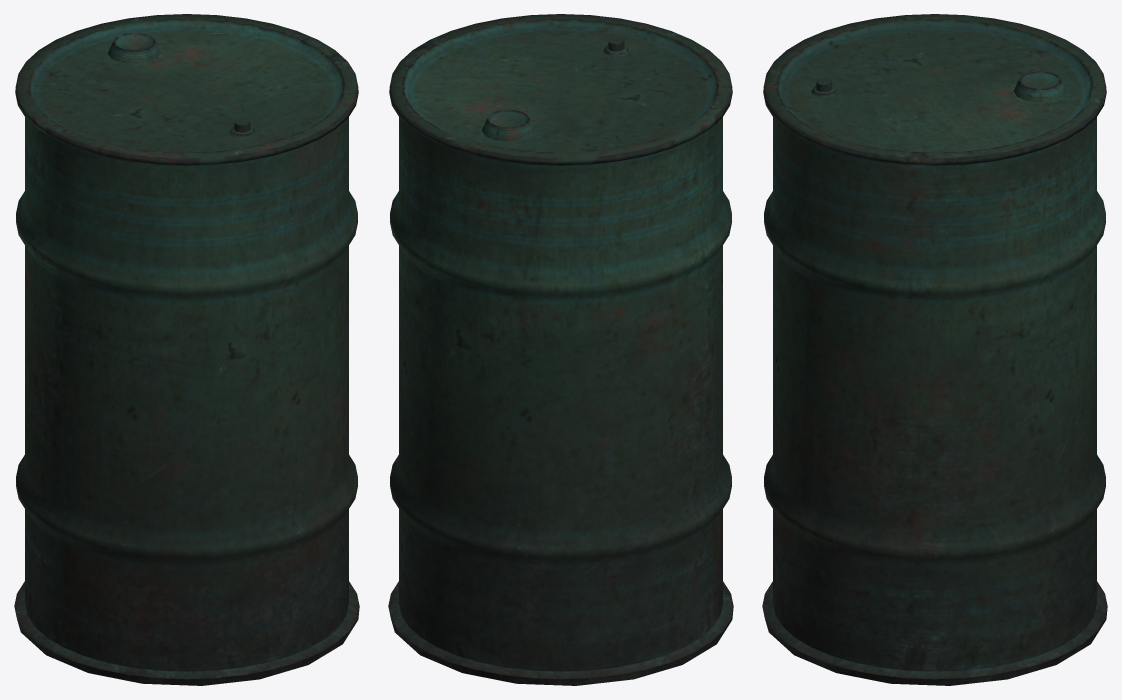
The model's file is Oil_Drum.fbx.
The picture shows the model from 3 angles, left to right: view 1: azimuth 30°, elevation 25°; view 2: azimuth 150°, elevation 25°; view 3: azimuth 270°, elevation 25°; orthographic projection.
Parts seen in each view (by area): view 1: Oil_Drum_LOD0; view 2: Oil_Drum_LOD0; view 3: Oil_Drum_LOD0.
Boxes of the visible parts, <box> form: Oil_Drum_LOD0: <box>14,14,359,685</box>; Oil_Drum_LOD0: <box>388,14,733,685</box>; Oil_Drum_LOD0: <box>762,14,1107,685</box>.
Size of what is drawn, in the model's own units: 63.62 by 108 by 63.62.
